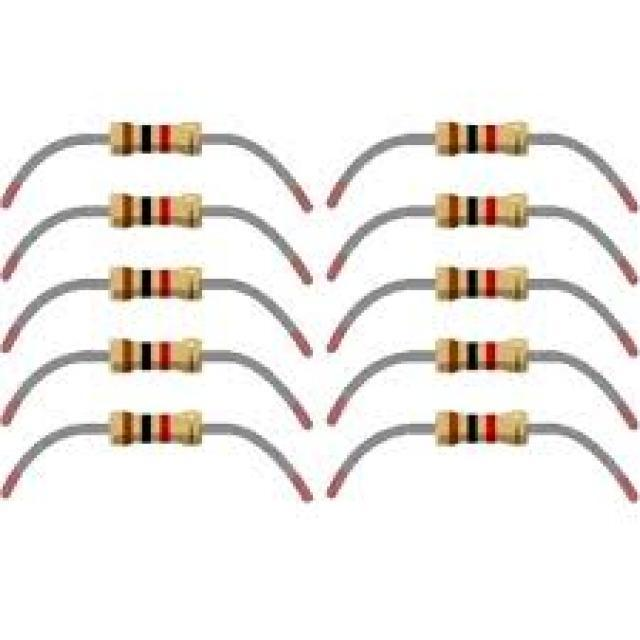Resistor: (434, 335, 533, 375), (107, 191, 203, 230), (433, 409, 531, 447), (434, 120, 532, 157), (106, 337, 206, 373), (107, 264, 203, 301), (107, 410, 203, 447), (435, 192, 531, 229), (434, 265, 532, 301), (107, 121, 204, 156)
black: (467, 342, 478, 370), (467, 415, 477, 443), (468, 125, 478, 153), (468, 271, 477, 298), (468, 197, 476, 224)
brown: (448, 266, 458, 302), (449, 412, 458, 447), (449, 340, 458, 373)
gold: (514, 339, 522, 373), (514, 194, 522, 228), (513, 122, 521, 156), (515, 411, 521, 445), (515, 268, 521, 302)
red: (486, 125, 496, 154), (486, 415, 495, 443), (487, 270, 496, 298), (486, 197, 495, 225), (486, 342, 495, 369)
